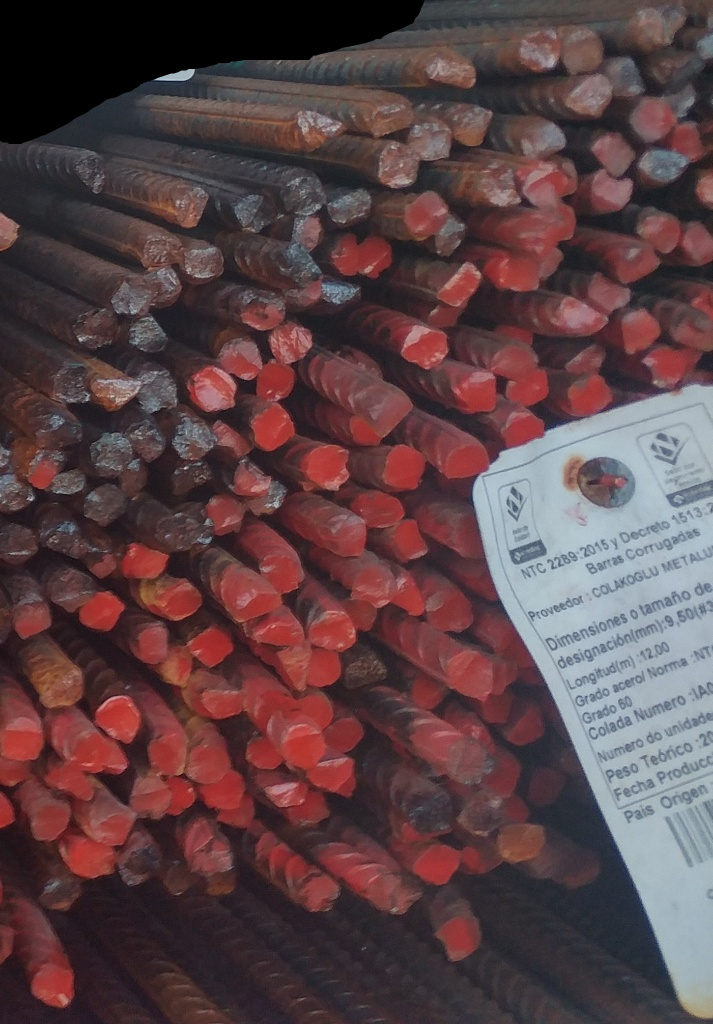dipstick: (426, 590, 474, 633), (448, 652, 491, 699), (413, 845, 460, 887), (407, 190, 446, 240), (592, 132, 636, 176), (438, 916, 481, 961), (298, 111, 343, 153), (252, 405, 294, 450), (120, 837, 158, 886), (193, 368, 234, 413), (309, 611, 355, 651), (657, 49, 700, 91), (631, 98, 674, 140), (457, 791, 500, 833), (377, 145, 418, 189), (305, 445, 350, 485), (375, 876, 422, 914), (383, 446, 425, 488), (448, 740, 490, 782), (31, 964, 73, 1006), (327, 189, 371, 229), (568, 374, 612, 414), (401, 330, 447, 368), (232, 582, 280, 618), (220, 337, 261, 379), (98, 697, 140, 738), (519, 29, 558, 73), (352, 567, 397, 605), (74, 310, 120, 347), (283, 725, 324, 766), (407, 792, 448, 833), (629, 10, 669, 52), (441, 263, 481, 305), (645, 345, 685, 387), (621, 310, 658, 355), (427, 53, 474, 88), (561, 32, 601, 73), (284, 174, 324, 215), (524, 166, 565, 206), (1, 718, 41, 759), (568, 76, 610, 115), (92, 433, 131, 475), (124, 544, 168, 581), (156, 515, 202, 550), (500, 826, 546, 861), (174, 420, 215, 459), (411, 123, 453, 161), (270, 324, 312, 362), (242, 293, 285, 330), (590, 172, 633, 209), (279, 247, 324, 282), (69, 841, 114, 876), (443, 443, 489, 477), (84, 484, 124, 523), (140, 370, 176, 413), (1, 522, 37, 565), (81, 594, 124, 630), (48, 768, 93, 802), (371, 99, 410, 138), (132, 778, 170, 818), (190, 837, 231, 874), (171, 185, 207, 227), (52, 362, 88, 404), (43, 522, 85, 558), (189, 630, 231, 666), (142, 232, 185, 267), (34, 415, 82, 446), (453, 107, 492, 145), (523, 218, 562, 256), (483, 168, 521, 207), (42, 667, 80, 706), (302, 875, 339, 915), (114, 276, 150, 317), (507, 371, 548, 407), (616, 245, 657, 281), (344, 654, 387, 688), (237, 193, 275, 231), (375, 394, 412, 433), (524, 124, 564, 160), (644, 215, 680, 255), (150, 736, 186, 776), (461, 371, 496, 412), (50, 570, 92, 604), (394, 571, 424, 618), (257, 364, 295, 401), (462, 835, 501, 871), (94, 810, 134, 845), (200, 773, 241, 807), (278, 644, 307, 692), (358, 235, 391, 277), (185, 748, 227, 781), (530, 768, 563, 810), (563, 301, 606, 333), (589, 276, 632, 308), (360, 494, 403, 526), (510, 704, 542, 747), (206, 496, 242, 534), (165, 582, 201, 620), (434, 221, 467, 262), (307, 760, 352, 790), (453, 513, 483, 558), (501, 414, 544, 445), (640, 151, 683, 182), (609, 59, 644, 96), (1, 475, 35, 513), (495, 347, 538, 377), (94, 380, 140, 408), (131, 420, 163, 460), (681, 225, 713, 265), (326, 717, 362, 752), (501, 259, 539, 292), (289, 793, 327, 826), (264, 554, 297, 592), (32, 806, 68, 840), (42, 881, 81, 912), (131, 317, 165, 352), (412, 674, 446, 709), (245, 735, 281, 768), (173, 464, 211, 495), (150, 268, 180, 307), (332, 232, 358, 277), (337, 517, 366, 557), (678, 315, 713, 348), (65, 731, 100, 764), (14, 605, 51, 636), (216, 421, 248, 456), (233, 463, 268, 495), (308, 651, 340, 686), (490, 756, 518, 796), (137, 627, 168, 663), (256, 619, 302, 643), (76, 155, 105, 193), (566, 345, 604, 374), (27, 451, 57, 487), (356, 381, 385, 418), (202, 690, 243, 716), (251, 483, 285, 514), (397, 521, 426, 557), (87, 537, 113, 577), (186, 248, 223, 276), (675, 121, 703, 158), (221, 796, 253, 827), (264, 783, 305, 807), (171, 778, 195, 818), (428, 301, 466, 326), (164, 650, 191, 685), (346, 600, 376, 631), (287, 283, 320, 311), (300, 696, 331, 725), (669, 87, 698, 117), (349, 420, 380, 447), (164, 864, 191, 895), (483, 692, 510, 722), (103, 743, 129, 774), (292, 218, 318, 248), (1, 759, 29, 786), (502, 796, 529, 824), (123, 460, 145, 494), (53, 471, 84, 493), (696, 170, 713, 208), (540, 249, 562, 278), (202, 877, 237, 895), (562, 204, 576, 238)
